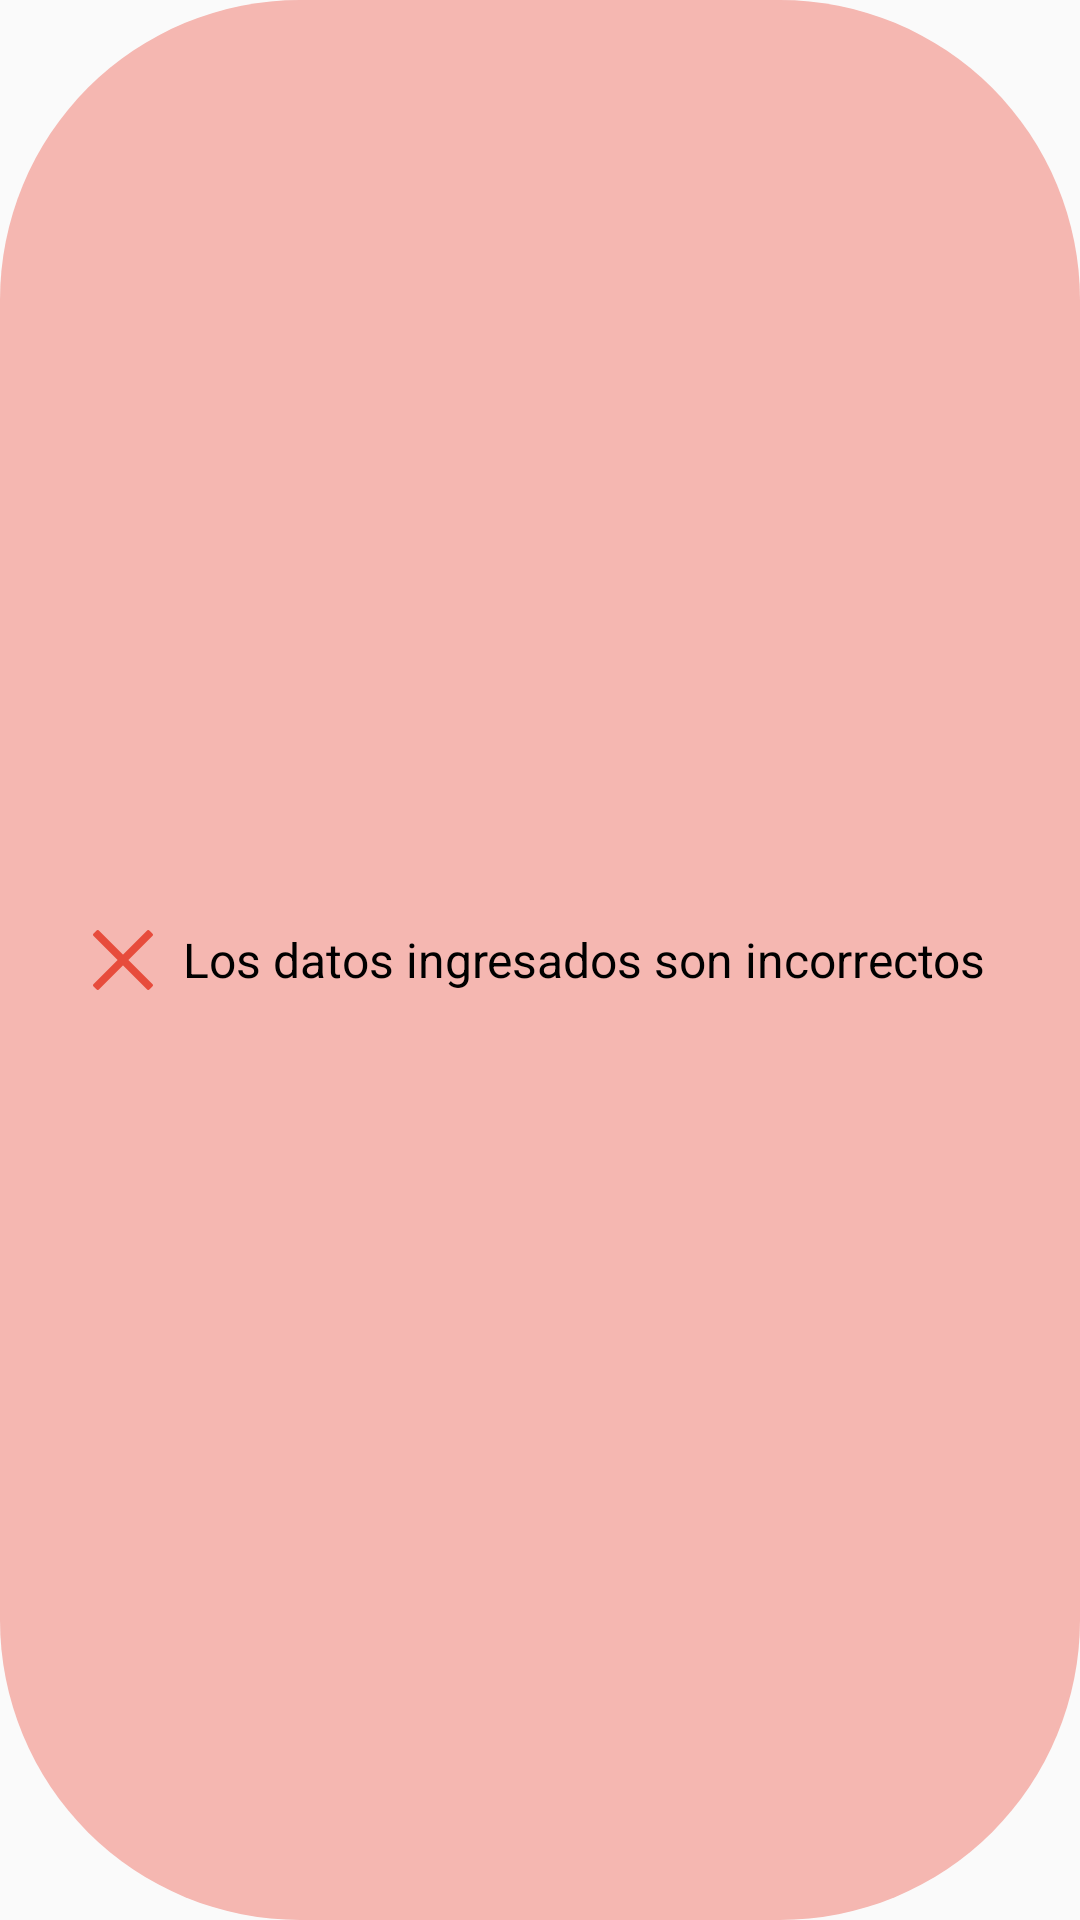

Icon click points for this 1080px x 1920px phone screenshot, format (x=x, y=y):
wronglogin: (x=123, y=960)
